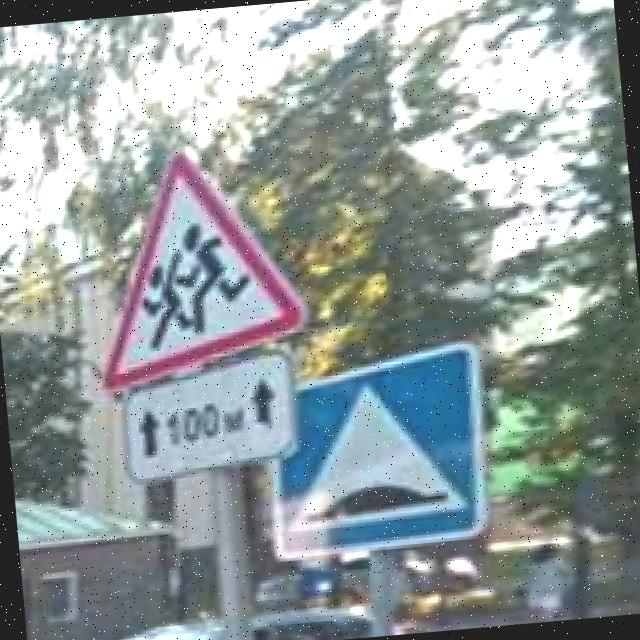Dzieci: (85, 142, 313, 396)
